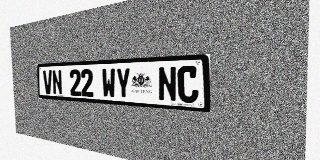2: (81, 69, 93, 97), (70, 69, 81, 96)
C: (177, 65, 199, 103)
N: (158, 66, 177, 102), (52, 70, 63, 95)
V: (43, 70, 53, 94)
W: (102, 68, 116, 98)
Y: (116, 68, 131, 99)
